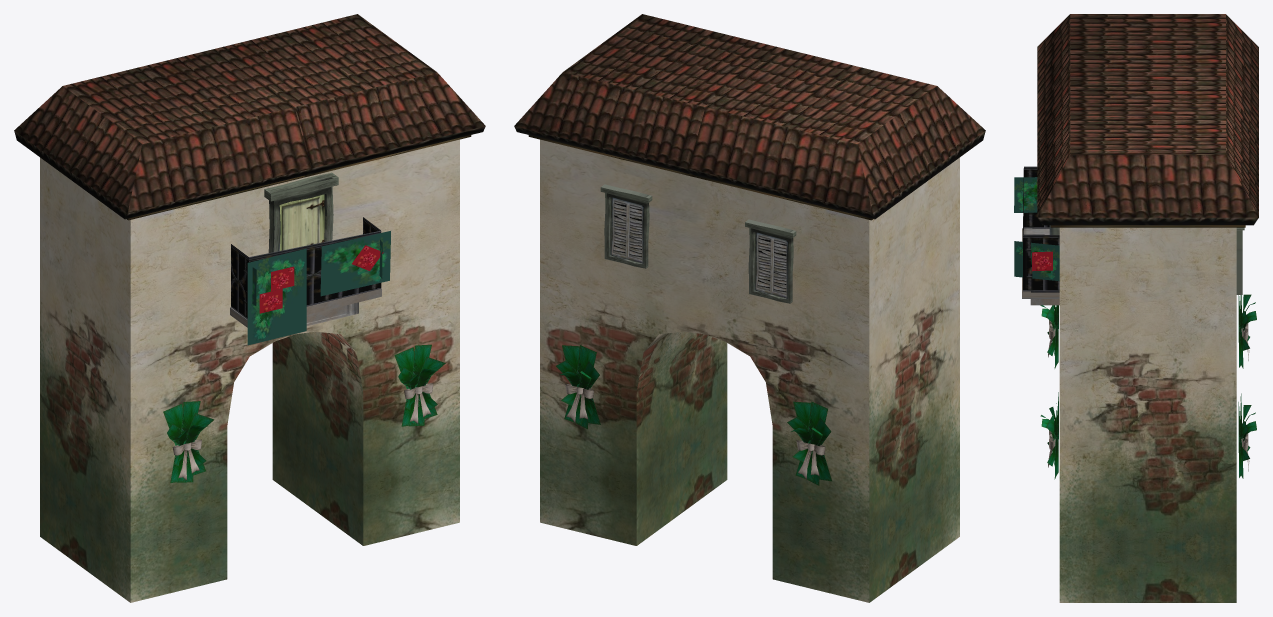
File: pir_m_bld_wal_spanish_archB.fbx
The picture shows the model from 3 angles, left to right: view 1: azimuth 30°, elevation 25°; view 2: azimuth 150°, elevation 25°; view 3: azimuth 270°, elevation 25°; orthographic projection. The views are drawn at different scales.
Visible parts, largest first — view 1: arch, roof, plant2, railing1, plant1, polySurface8, pPlane1, balcony_top, balcony_bottom; view 2: arch, roof, window_open3_polySurface9, window_open3_polySurface8; view 3: arch, roof, railing1, plant3, plant4, balcony_top, window_open3_polySurface9, flower4.
Boxes of the visible parts, bbox=[...] form: arch: bbox=[40, 139, 459, 602]; roof: bbox=[14, 14, 485, 220]; plant2: bbox=[247, 248, 306, 345]; railing1: bbox=[231, 217, 381, 319]; plant1: bbox=[320, 231, 390, 296]; polySurface8: bbox=[264, 172, 338, 252]; pPlane1: bbox=[279, 194, 324, 250]; balcony_top: bbox=[230, 288, 381, 327]; balcony_bottom: bbox=[306, 302, 358, 325]; arch: bbox=[540, 139, 959, 602]; roof: bbox=[514, 14, 985, 220]; window_open3_polySurface9: bbox=[600, 184, 652, 268]; window_open3_polySurface8: bbox=[745, 219, 796, 303]; arch: bbox=[1059, 227, 1236, 602]; roof: bbox=[1037, 14, 1258, 227]; railing1: bbox=[1023, 166, 1059, 292]; plant3: bbox=[1014, 241, 1059, 281]; plant4: bbox=[1014, 177, 1037, 212]; balcony_top: bbox=[1022, 228, 1059, 298]; window_open3_polySurface9: bbox=[1236, 227, 1244, 294]; flower4: bbox=[1032, 251, 1052, 271].
Bounding box in the file's own units: 3254 × 3909 × 1970.
3 materials, 3 textured.
